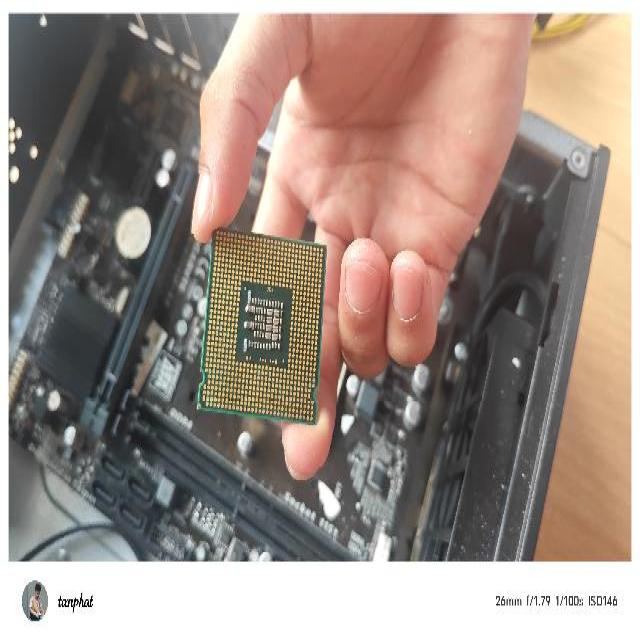CPU: (198, 223, 328, 427)
